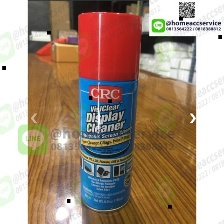aerosol_cans: (74, 7, 145, 215)
